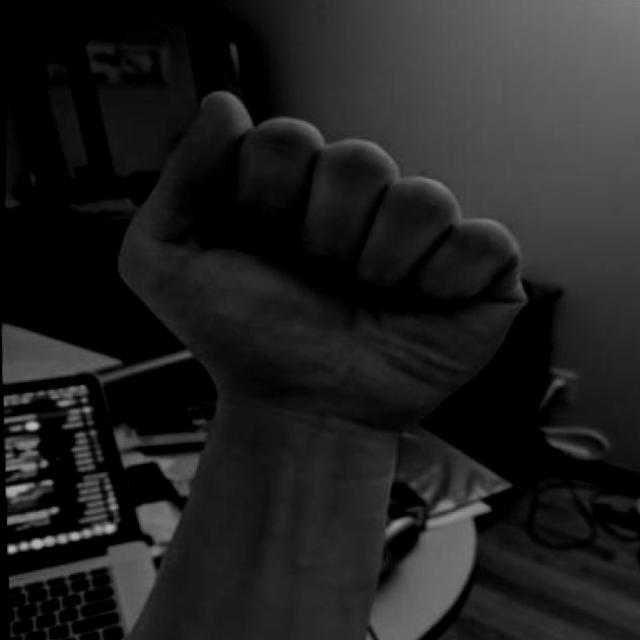A: (106, 80, 540, 469)
